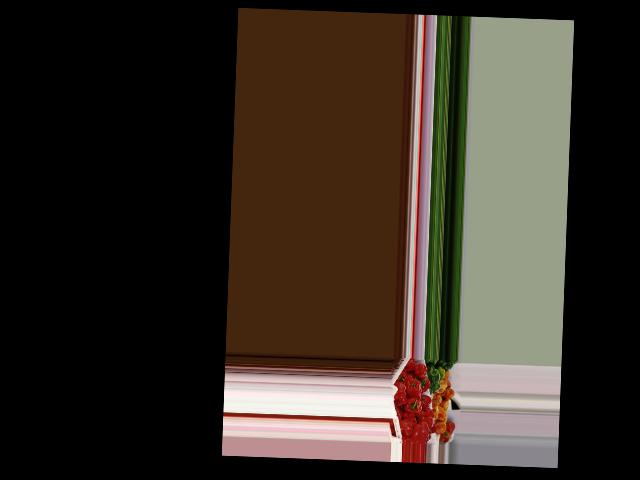bell_pepper: (392, 381, 407, 407)
